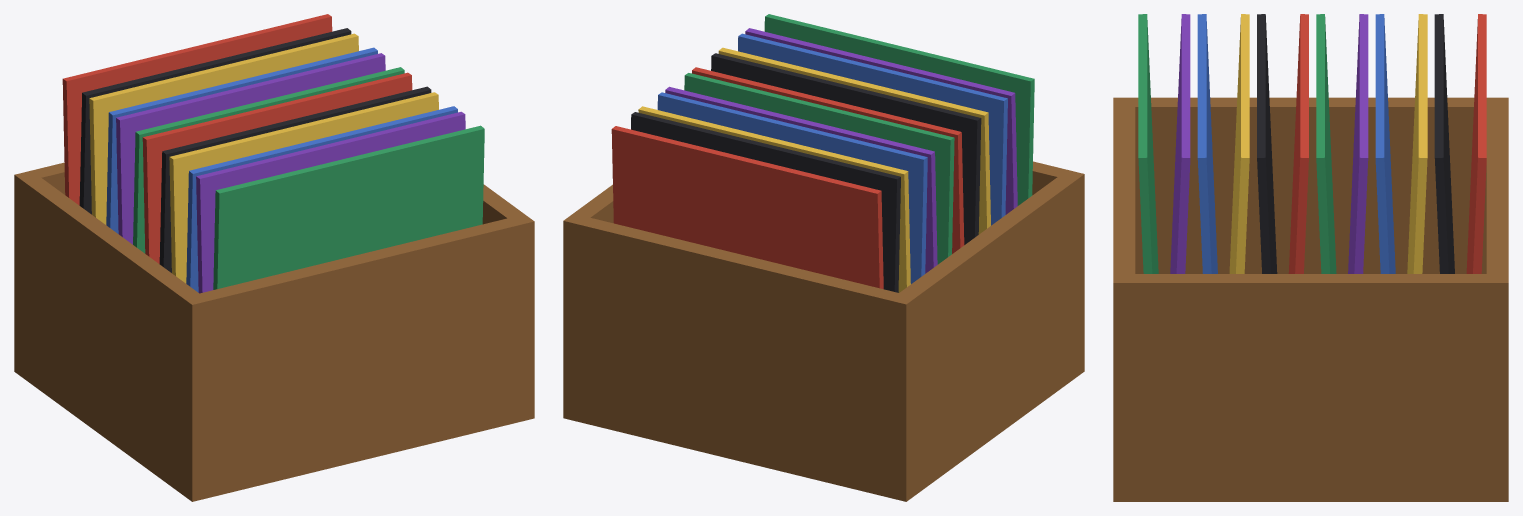
File: vinyl_crate.glb
3 renders of one model, left to right at view 1: azimuth 30°, elevation 25°; view 2: azimuth 150°, elevation 25°; view 3: azimuth 270°, elevation 25°, orthographic. The views are drawn at different scales.
Visible parts, largest first — view 1: sides_crate_wood, sleeves, bottom_crate_wood; view 2: sides_crate_wood, sleeves, bottom_crate_wood; view 3: sides_crate_wood, sleeves, bottom_crate_wood.
Boxes of the visible parts, left/top/right/bottom form: sides_crate_wood: left=14, top=162, right=534, bottom=501; sleeves: left=62, top=14, right=484, bottom=293; bottom_crate_wood: left=14, top=354, right=534, bottom=501; sides_crate_wood: left=563, top=161, right=1084, bottom=501; sleeves: left=611, top=14, right=1034, bottom=292; bottom_crate_wood: left=563, top=354, right=1084, bottom=501; sides_crate_wood: left=1113, top=97, right=1508, bottom=501; sleeves: left=1138, top=14, right=1486, bottom=273; bottom_crate_wood: left=1113, top=482, right=1508, bottom=501.
Size of the model in its own units: 0.4 by 0.325 by 0.36.
